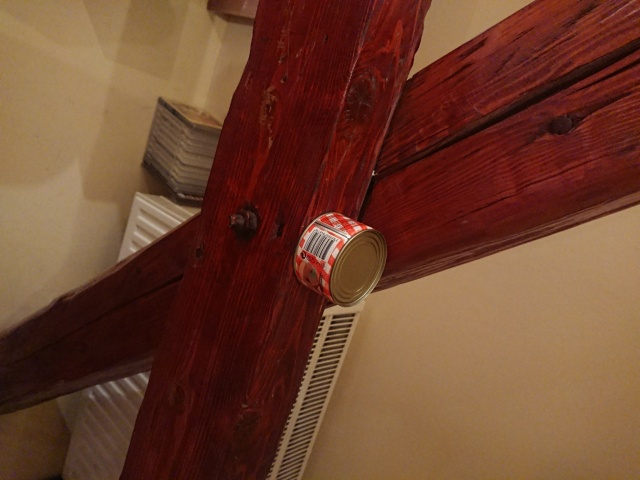Podravka Luncheon Meat 150g: (291, 207, 389, 310)
